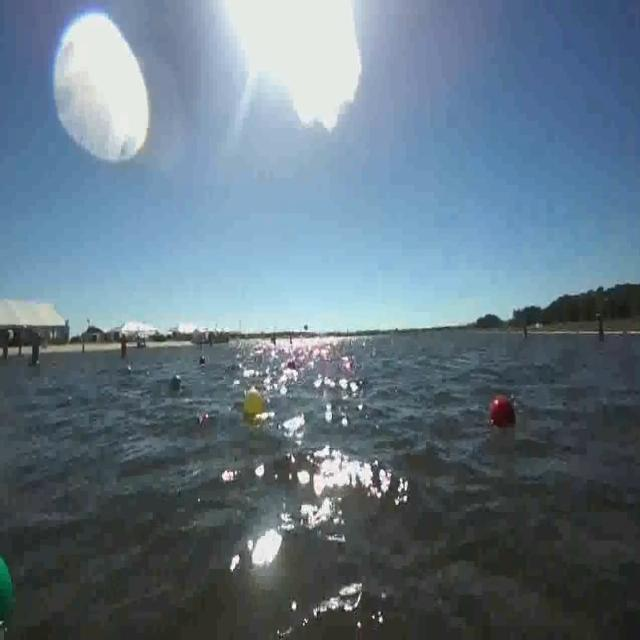black-buoy: (169, 371, 183, 393)
green-buoy: (0, 551, 15, 635)
green-column-buoy: (30, 336, 42, 368)
red-buoy: (488, 394, 515, 428)
yellow-buoy: (242, 388, 266, 422)
